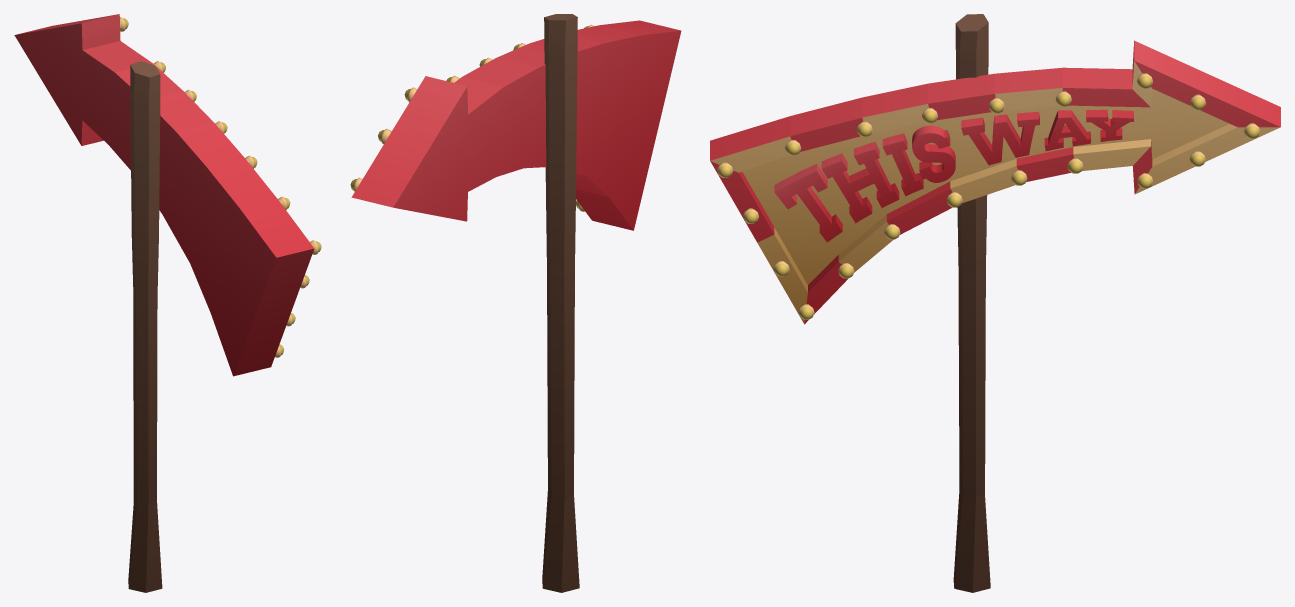
Rendered from this_way_right_stick.fbx.
3 views of the same model, side by side, from view 1: azimuth 30°, elevation 25°; view 2: azimuth 150°, elevation 25°; view 3: azimuth 270°, elevation 25° (orthographic). The views are drawn at different scales.
Parts seen in each view (by area): view 1: this_way_right_stick; view 2: this_way_right_stick; view 3: this_way_right_stick.
Part boxes in pixels (left/top/right/bottom): this_way_right_stick: left=14, top=14, right=321, bottom=592; this_way_right_stick: left=350, top=14, right=681, bottom=592; this_way_right_stick: left=710, top=14, right=1280, bottom=592.
Bounding box in the file's own units: 39.67 × 249 × 228.
